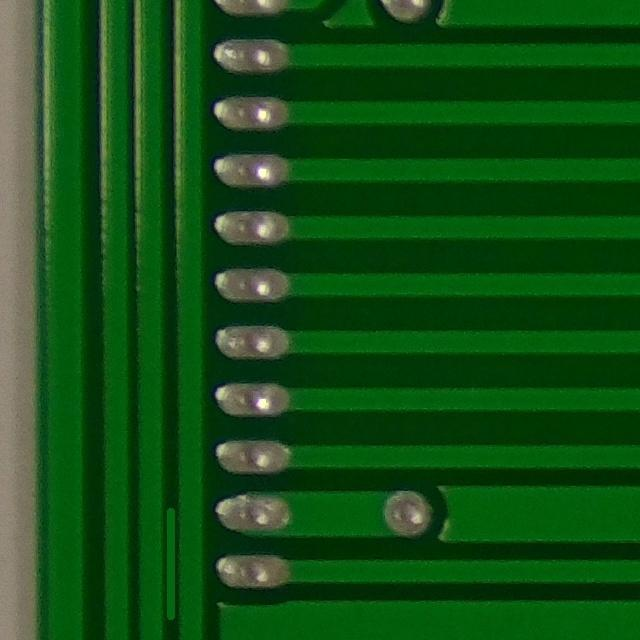spurious_copper: (152, 492, 191, 631)
